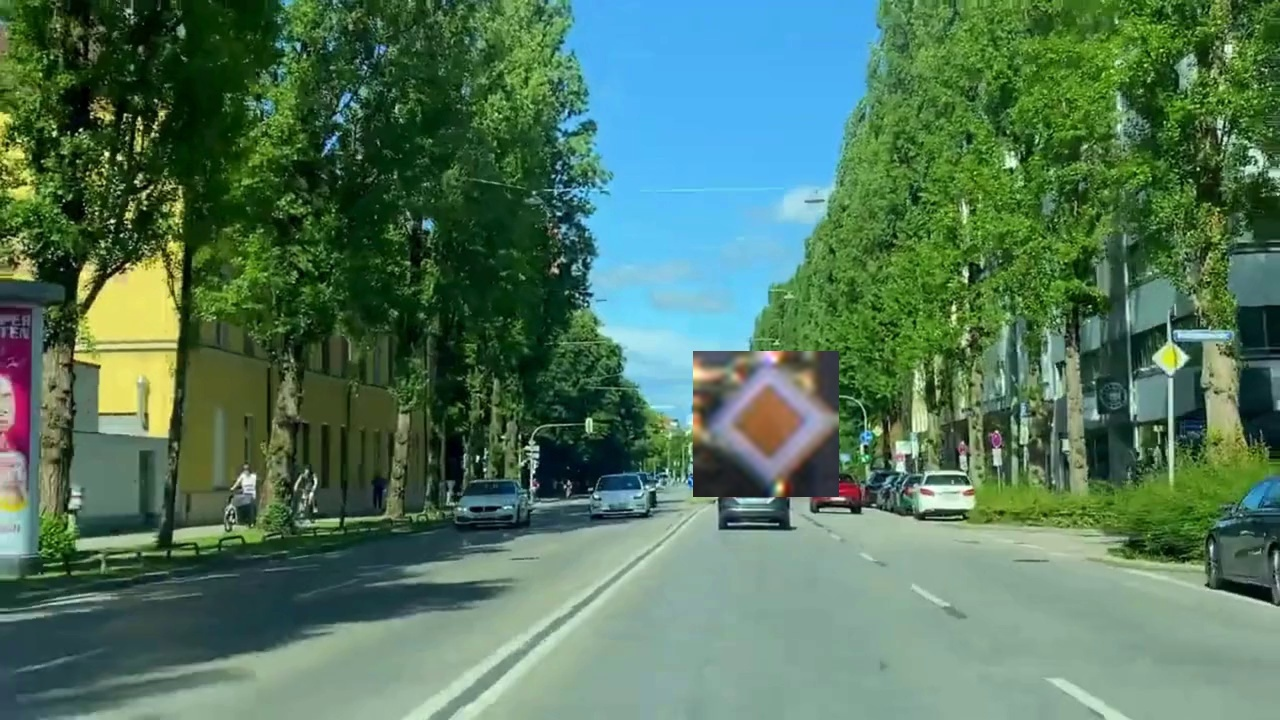Priority road: (693, 351, 839, 497)
